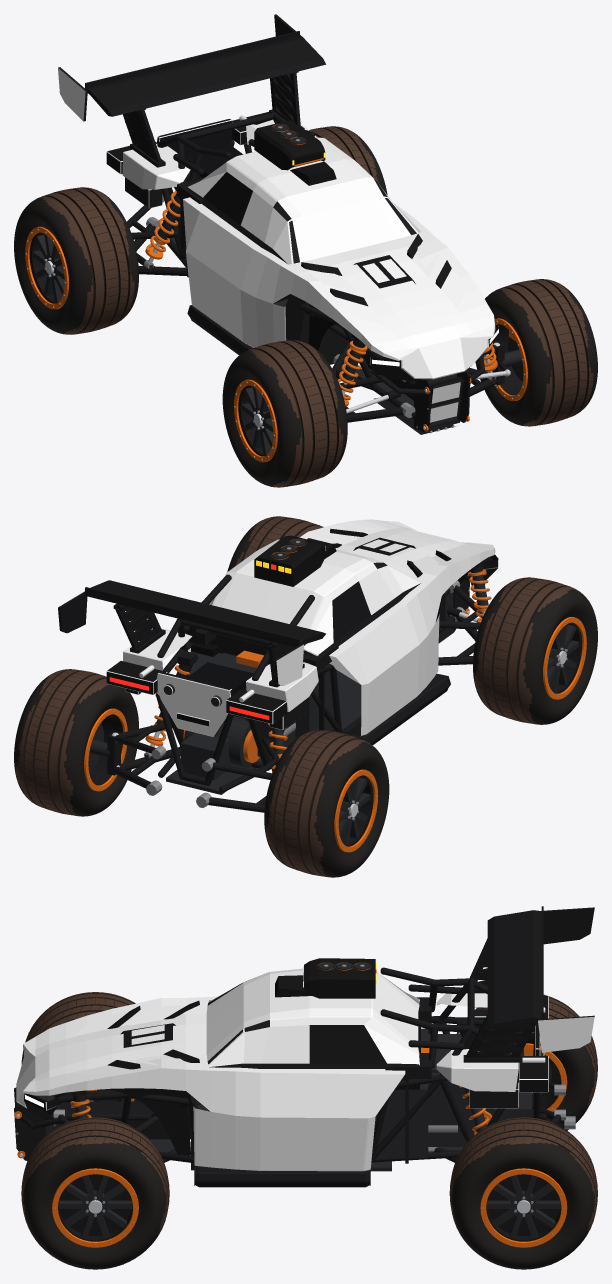
File: buggy.glb
The picture shows the model from 3 angles, top to bottom: view 1: azimuth 30°, elevation 25°; view 2: azimuth 150°, elevation 25°; view 3: azimuth 270°, elevation 25°; orthographic projection. The views are drawn at different scales.
Visible parts, largest first — view 1: body_hull, body_cabin, wheel.FR, wheel.RR, body_wing, wheel.FL, body_frame, body_doors, body_tail, body_nose, body_vents, body_roof (+6 smaller); view 2: wheel.RR, wheel.FR, wheel.RL, body_cabin, body_hull, body_frame, body_tail, body_wing, body_engine, body_doors, body_roof, body_vents (+9 smaller); view 3: body_hull, wheel.RL, wheel.FL, body_cabin, body_frame, body_wing, body_doors, body_engine, body_tail, wheel.RR, body_roof, body_vents (+3 smaller).
Boxes of the visible parts, bbox=[...] form: body_hull: bbox=[183, 197, 495, 360]; body_cabin: bbox=[187, 137, 421, 264]; wheel.FR: bbox=[222, 340, 347, 487]; wheel.RR: bbox=[14, 187, 138, 334]; body_wing: bbox=[58, 14, 325, 167]; wheel.FL: bbox=[475, 279, 597, 426]; body_frame: bbox=[157, 112, 485, 434]; body_doors: bbox=[186, 252, 305, 347]; body_tail: bbox=[106, 112, 316, 208]; body_nose: bbox=[308, 304, 498, 381]; body_vents: bbox=[301, 234, 468, 325]; body_roof: bbox=[254, 120, 336, 185]; wheel.RR: bbox=[264, 730, 389, 877]; wheel.FR: bbox=[473, 577, 597, 724]; wheel.RL: bbox=[14, 669, 138, 816]; body_cabin: bbox=[209, 539, 421, 655]; body_hull: bbox=[300, 519, 495, 684]; body_frame: bbox=[155, 559, 485, 794]; body_tail: bbox=[106, 628, 318, 736]; body_wing: bbox=[58, 580, 325, 687]; body_engine: bbox=[178, 643, 334, 780]; body_doors: bbox=[188, 598, 441, 736]; body_roof: bbox=[254, 535, 336, 586]; body_vents: bbox=[322, 524, 468, 577]; body_hull: bbox=[23, 996, 405, 1118]; wheel.RL: bbox=[449, 1117, 597, 1269]; wheel.FL: bbox=[21, 1117, 169, 1269]; body_cabin: bbox=[206, 968, 420, 1068]; body_frame: bbox=[14, 967, 546, 1171]; body_wing: bbox=[463, 906, 594, 1062]; body_doors: bbox=[187, 1092, 375, 1171]; body_engine: bbox=[374, 1028, 531, 1158]; body_tail: bbox=[436, 993, 548, 1108]; wheel.RR: bbox=[456, 994, 597, 1130]; body_roof: bbox=[275, 958, 376, 998]; body_vents: bbox=[73, 1000, 199, 1075].
Size of the model in its own units: 2.28 by 1.6 by 3.55.
